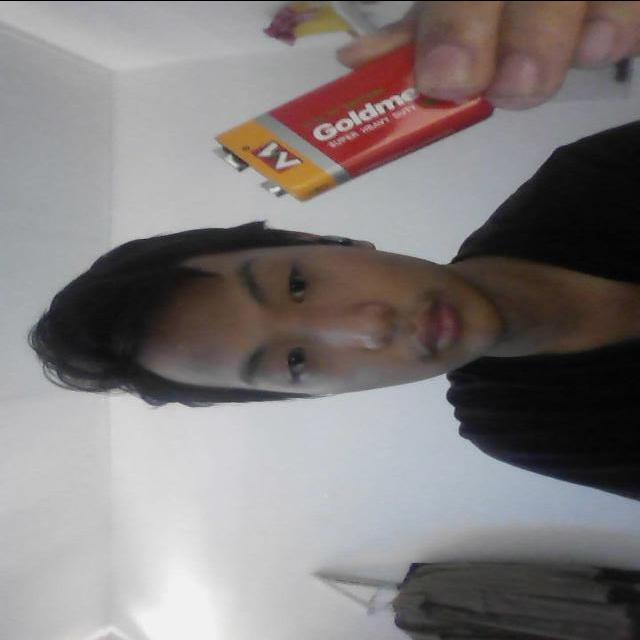9V: (186, 34, 502, 200)
